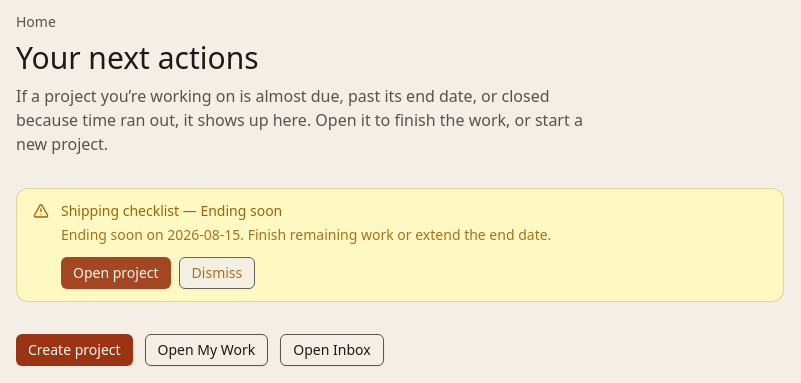
HomePage › hides a stale notice and lets the dismiss error be closed
Expected: the text "Shipping checklist — Ending soon" is shown, [60,200,282,220]
Click the button "Dismiss" at (217, 273), box [179,257,255,289]
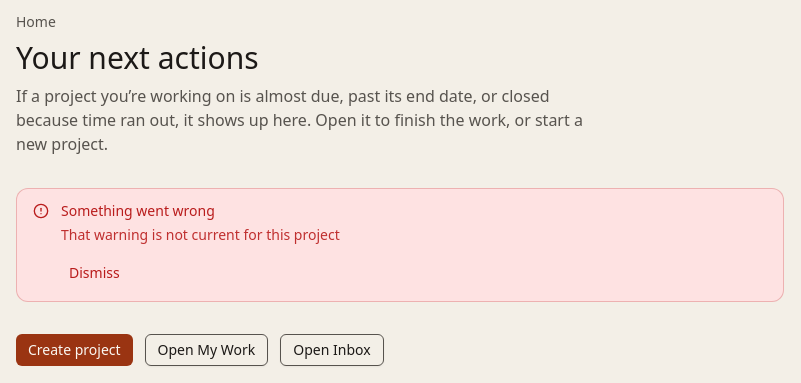
Now the text "Shipping checklist — Ending soon" is gone
Click the button "Dismiss" at (94, 273), box [61,257,128,289]
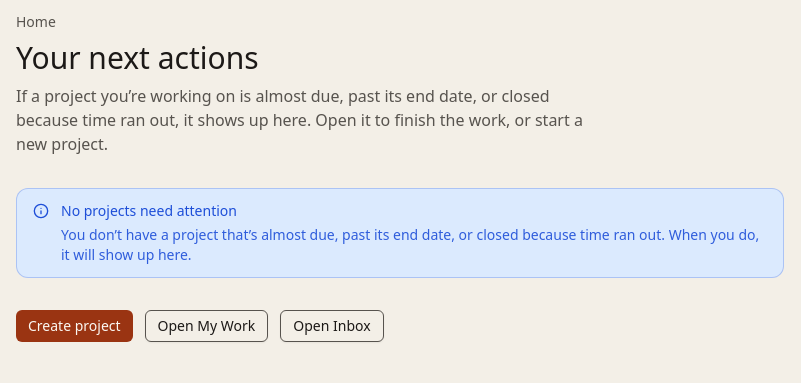
Now the text "That warning is not current for this project" is gone
